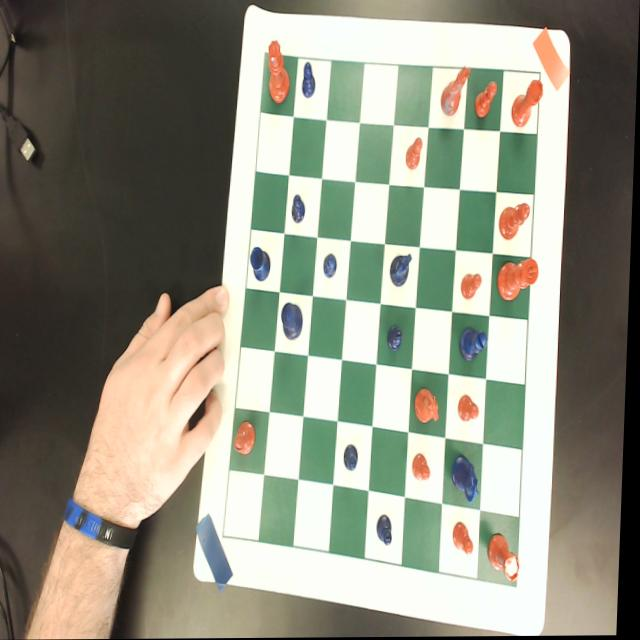B: (462, 326, 491, 363)
K: (283, 302, 306, 342)
N: (455, 455, 485, 505), (391, 254, 414, 287)
P: (380, 513, 397, 547), (303, 63, 317, 101), (346, 443, 363, 472), (388, 325, 406, 352), (292, 195, 307, 225), (325, 254, 340, 279)
R: (252, 246, 273, 282)
b: (500, 202, 532, 241), (237, 420, 259, 457)
k: (498, 258, 541, 303)
n: (440, 66, 474, 120), (417, 387, 443, 426)
p: (475, 81, 498, 119), (456, 521, 479, 557), (460, 394, 483, 422), (415, 452, 435, 483), (463, 273, 484, 301), (407, 137, 424, 171)
q: (266, 41, 292, 105)
r: (490, 533, 525, 585), (512, 80, 545, 128)
